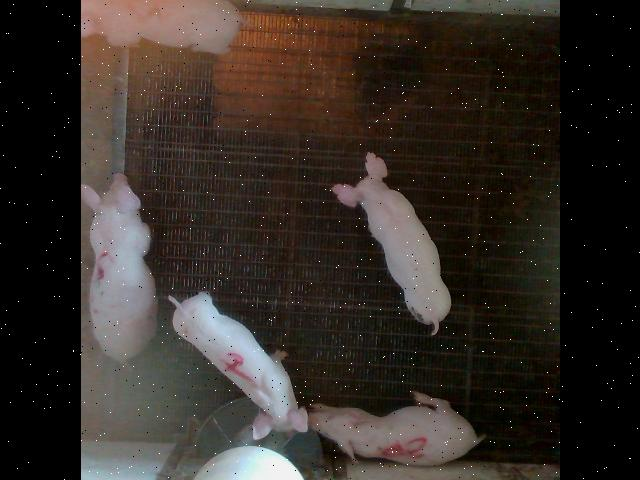pig-2: (81, 0, 241, 54)
pig-3: (81, 174, 155, 364)
pig-4: (168, 292, 306, 439)
pig-5: (307, 391, 484, 465)
